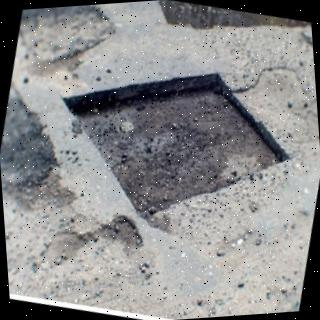pothole: (62, 73, 290, 230), (0, 90, 78, 205), (11, 4, 113, 90), (158, 0, 300, 29)
